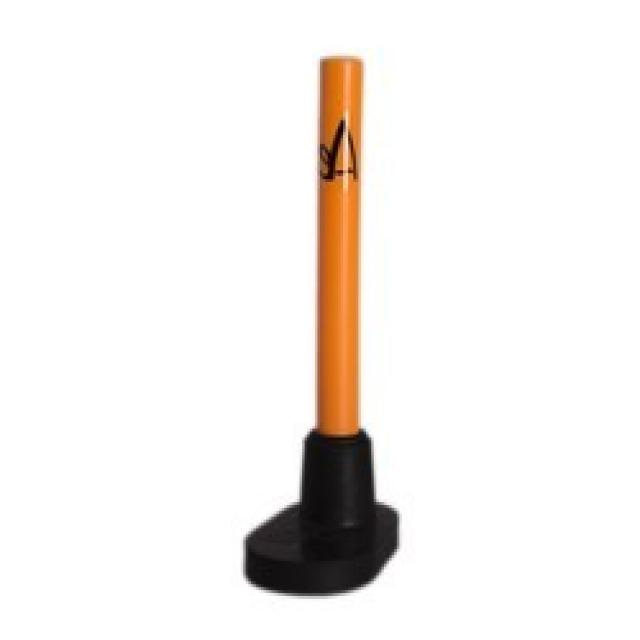stump: (310, 51, 362, 425)
